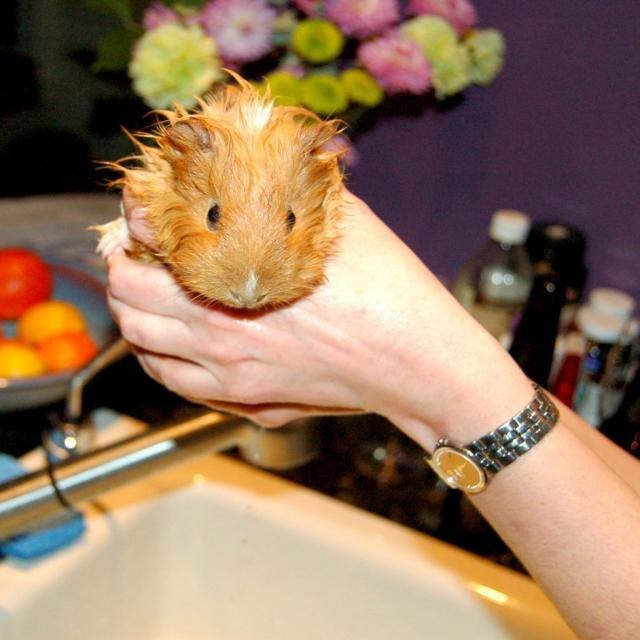rat: (118, 68, 344, 313)
